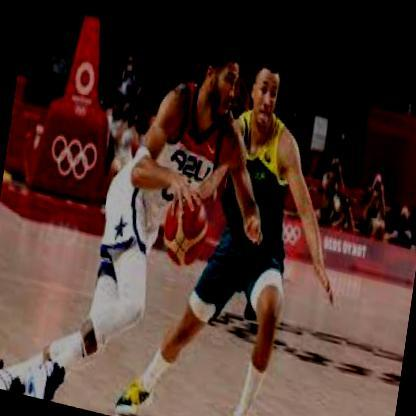basketball: (158, 182, 211, 269)
